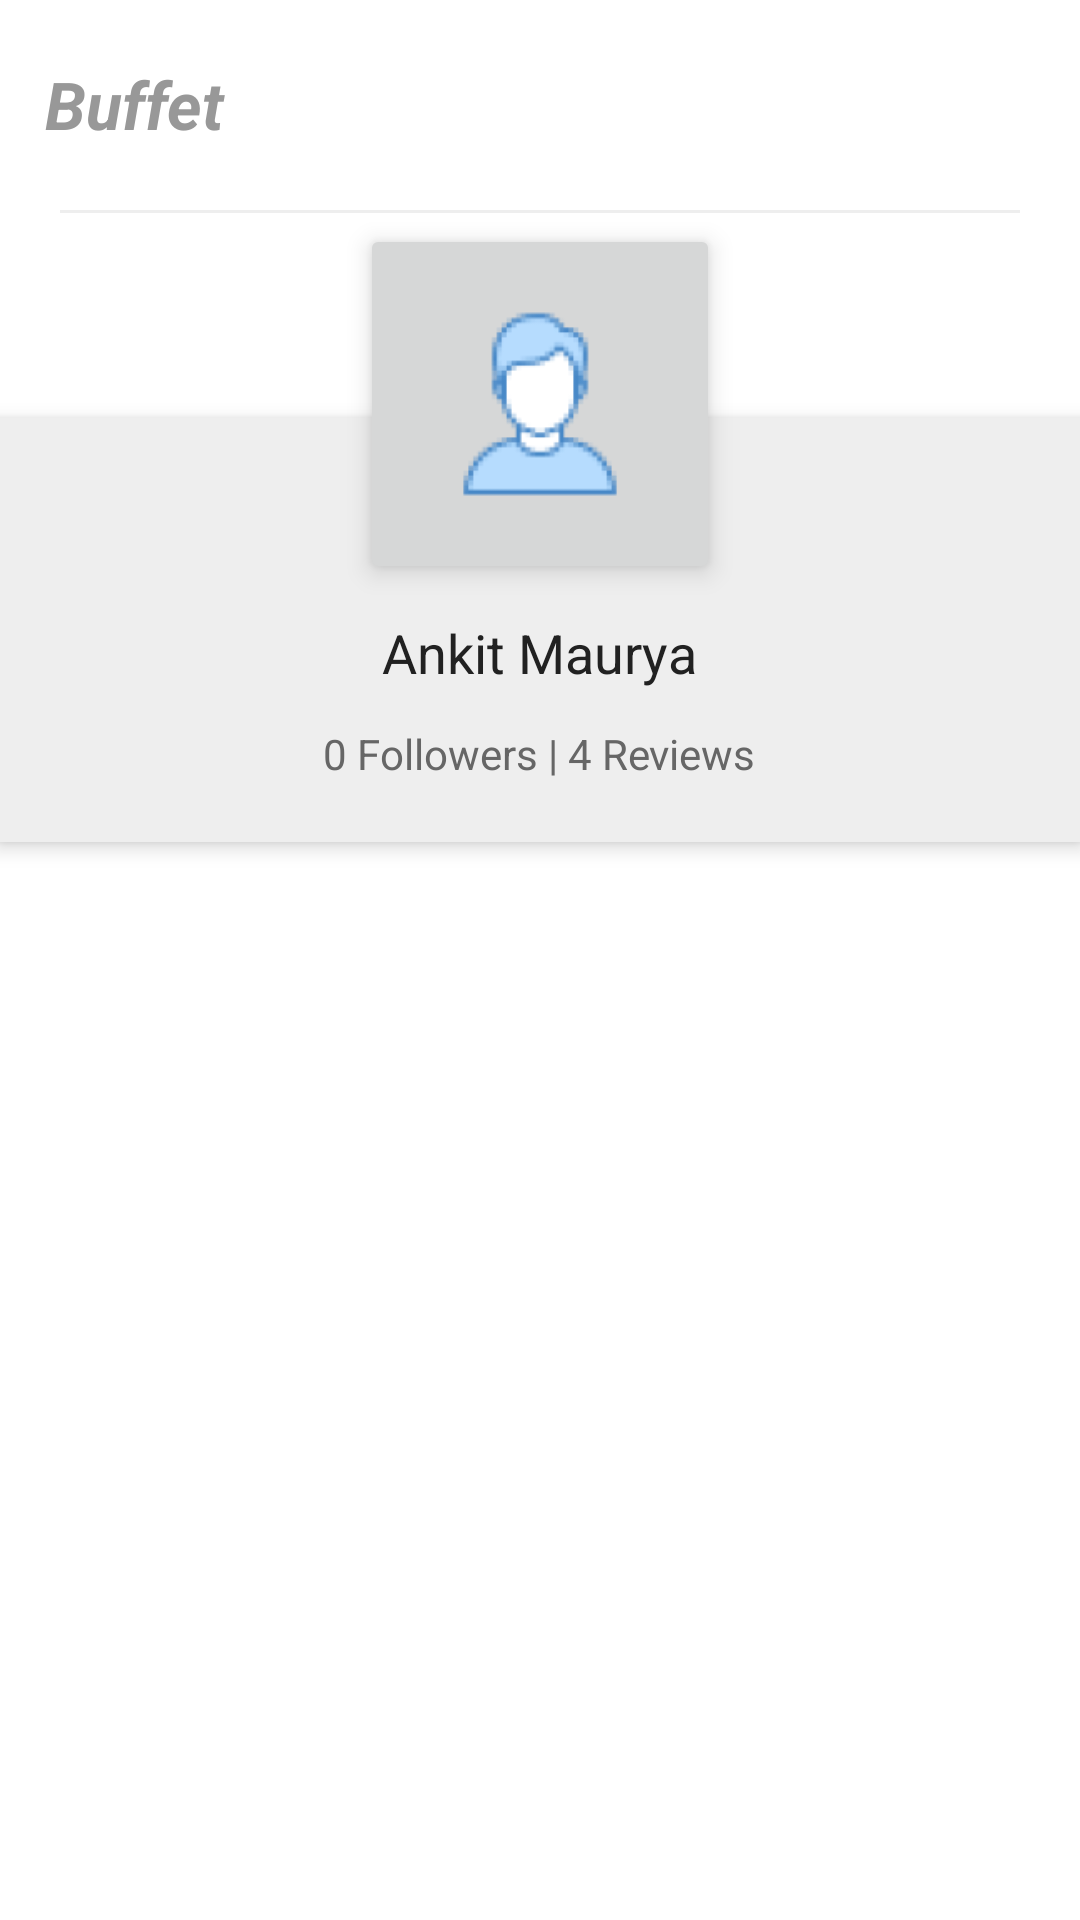

Locate icon controls on the screen. Image size 1080px x 1920px, boxes as (x1, y1, x2, y2).
profile: (364, 242, 716, 577)
